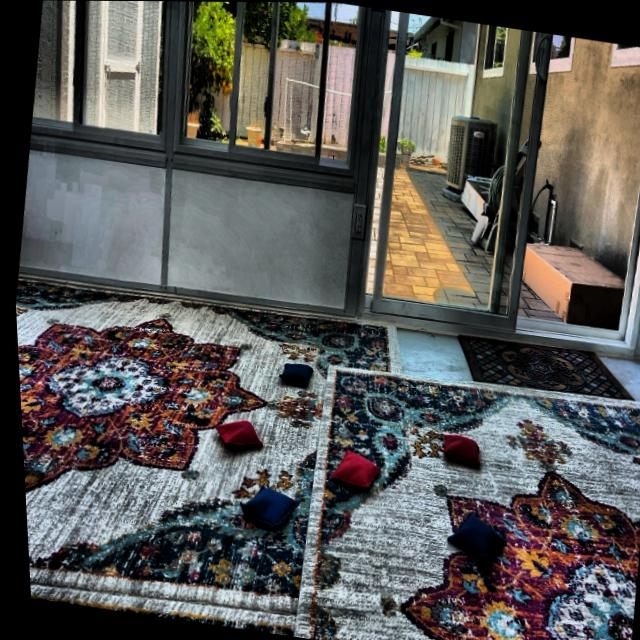blue-bean-bag: (436, 505, 505, 562), (229, 479, 298, 534), (272, 359, 310, 387)
red-bean-bag: (322, 444, 378, 492), (205, 413, 261, 452), (434, 430, 478, 468)
